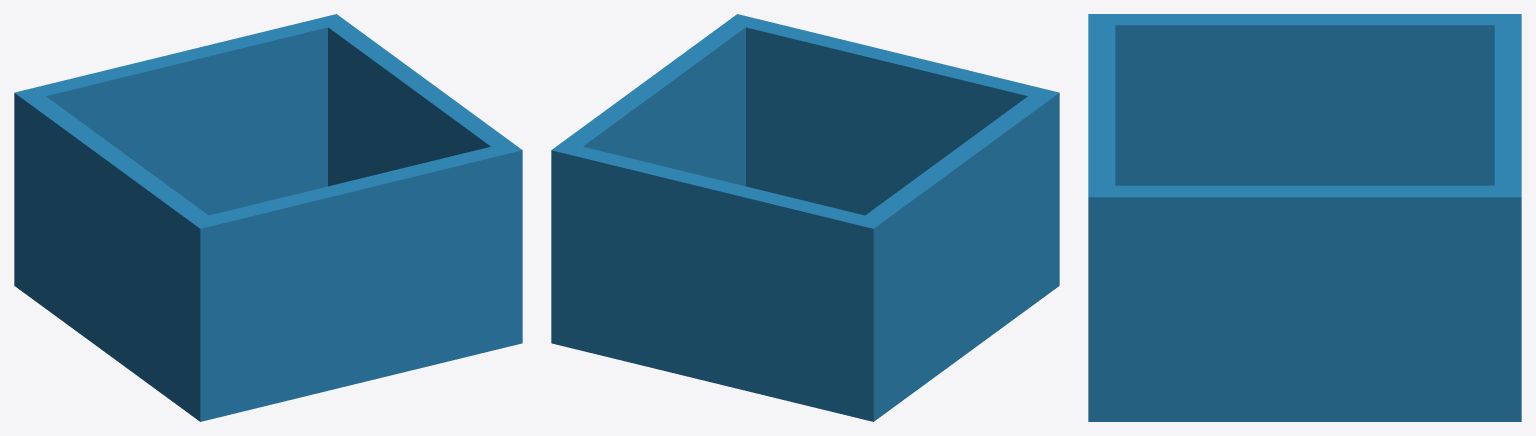
File: RC_Cart000.fbx
3 views of the same model, side by side, from view 1: azimuth 30°, elevation 25°; view 2: azimuth 150°, elevation 25°; view 3: azimuth 270°, elevation 25° (orthographic). The views are drawn at different scales.
Visible parts, largest first — view 1: Cart; view 2: Cart; view 3: Cart.
Part boxes in pixels (x1,y1,x2,y2): Cart: [14, 14, 522, 421]; Cart: [551, 14, 1059, 421]; Cart: [1088, 14, 1521, 421].
Bounding box in the file's own units: 123 × 70.47 × 123.
